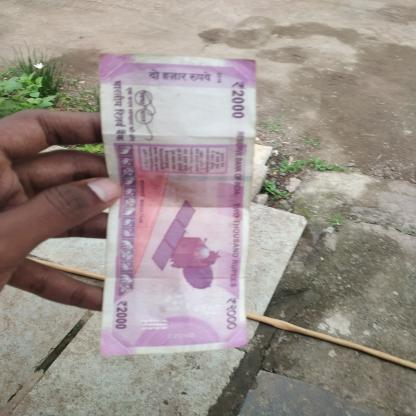New2000Back: (104, 55, 248, 350)
